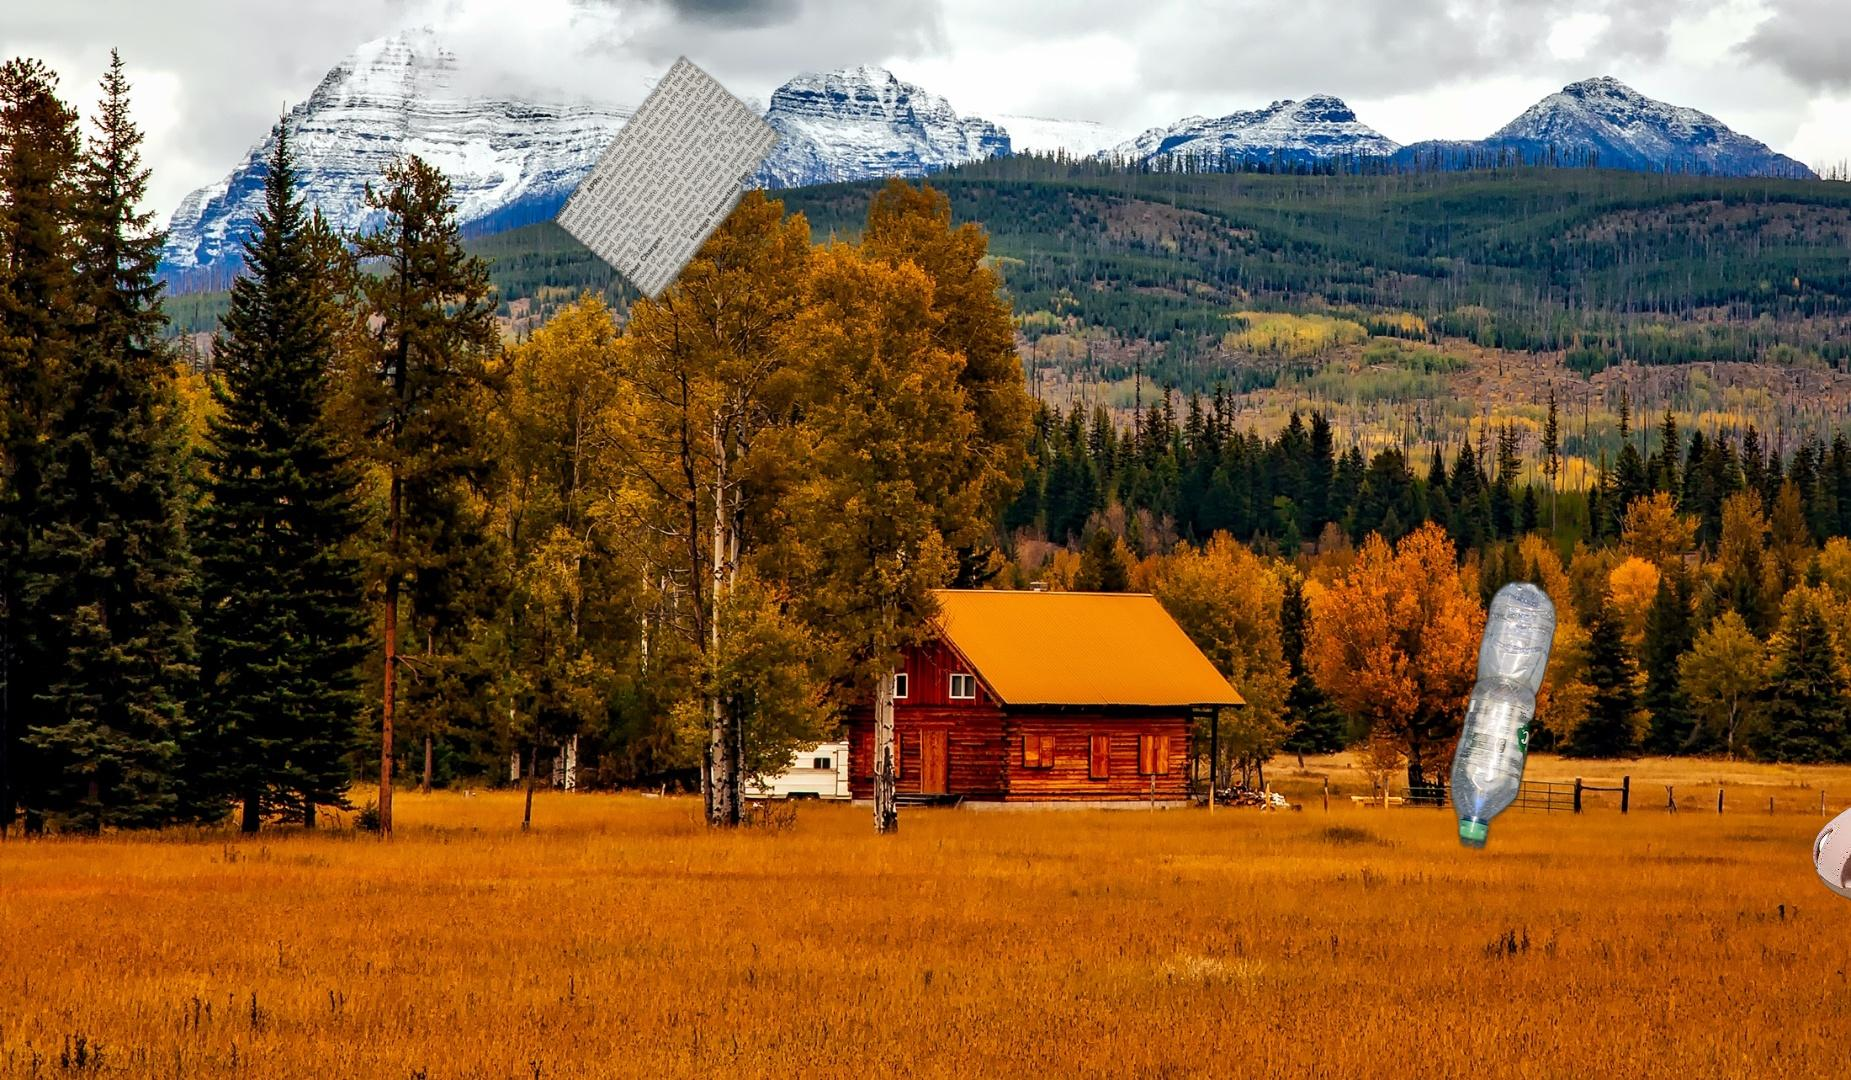paper: (546, 53, 855, 318)
plastic-bottles: (1446, 558, 1562, 915)
shoes: (1810, 732, 1851, 912)
